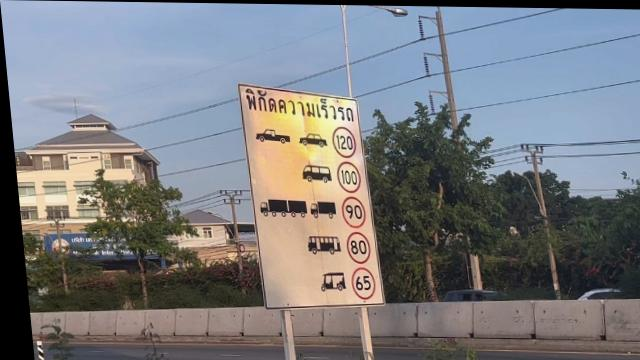limit100: (335, 159, 359, 191)
limit120: (329, 125, 356, 157)
limit80: (342, 229, 367, 261)
